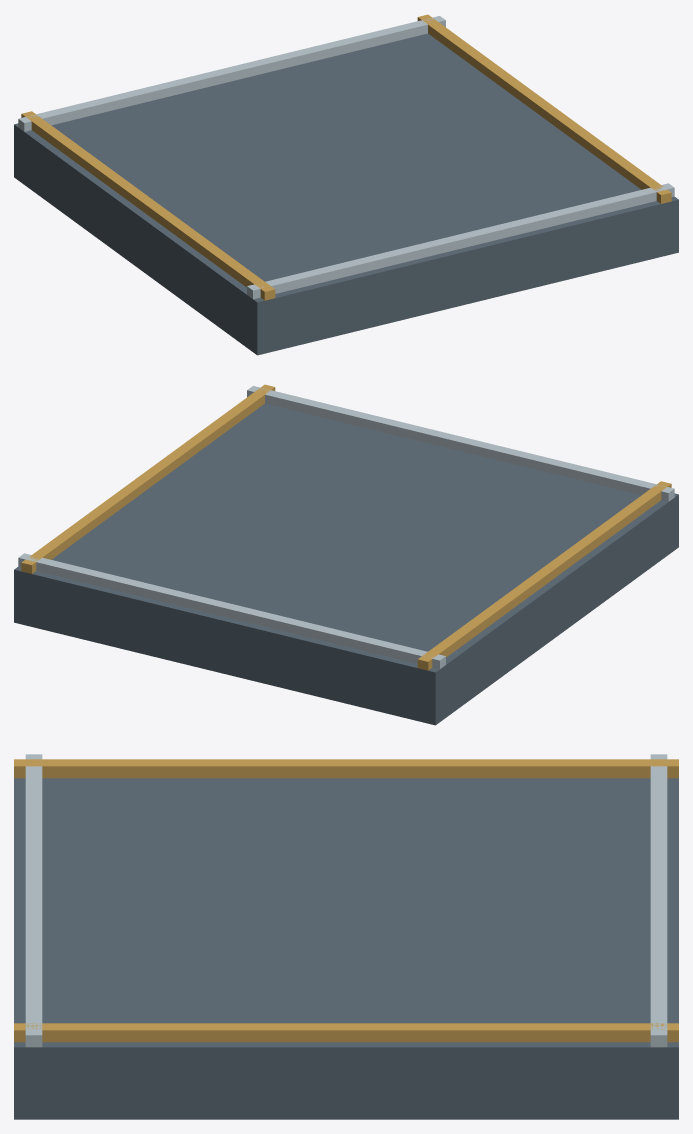
File: floor.glb
3 renders of one model, top to bottom at view 1: azimuth 30°, elevation 25°; view 2: azimuth 150°, elevation 25°; view 3: azimuth 270°, elevation 25°, orthographic. The views are drawn at different scales.
Visible parts, largest first — view 1: floor slab, floor joint, floor joint.001, floor brass rim, floor brass rim.001; view 2: floor slab, floor joint.001, floor joint, floor brass rim, floor brass rim.001; view 3: floor slab, floor brass rim, floor brass rim.001, floor joint, floor joint.001.
Part boxes in pixels (x1=…): floor slab: x1=14, y1=33, x2=678, y2=355; floor joint: x1=247, y1=183, x2=674, y2=299; floor joint.001: x1=18, y1=16, x2=445, y2=131; floor brass rim: x1=21, y1=111, x2=275, y2=300; floor brass rim.001: x1=417, y1=14, x2=671, y2=203; floor slab: x1=14, y1=403, x2=678, y2=725; floor joint.001: x1=18, y1=553, x2=445, y2=669; floor joint: x1=247, y1=386, x2=674, y2=501; floor brass rim: x1=417, y1=481, x2=671, y2=670; floor brass rim.001: x1=21, y1=384, x2=275, y2=573; floor slab: x1=14, y1=778, x2=678, y2=1119; floor brass rim: x1=14, y1=759, x2=678, y2=778; floor brass rim.001: x1=14, y1=1023, x2=678, y2=1042; floor joint: x1=25, y1=754, x2=42, y2=1047; floor joint.001: x1=650, y1=754, x2=667, y2=1047.
Size of the model in its own units: 1 by 0.14 by 1.
